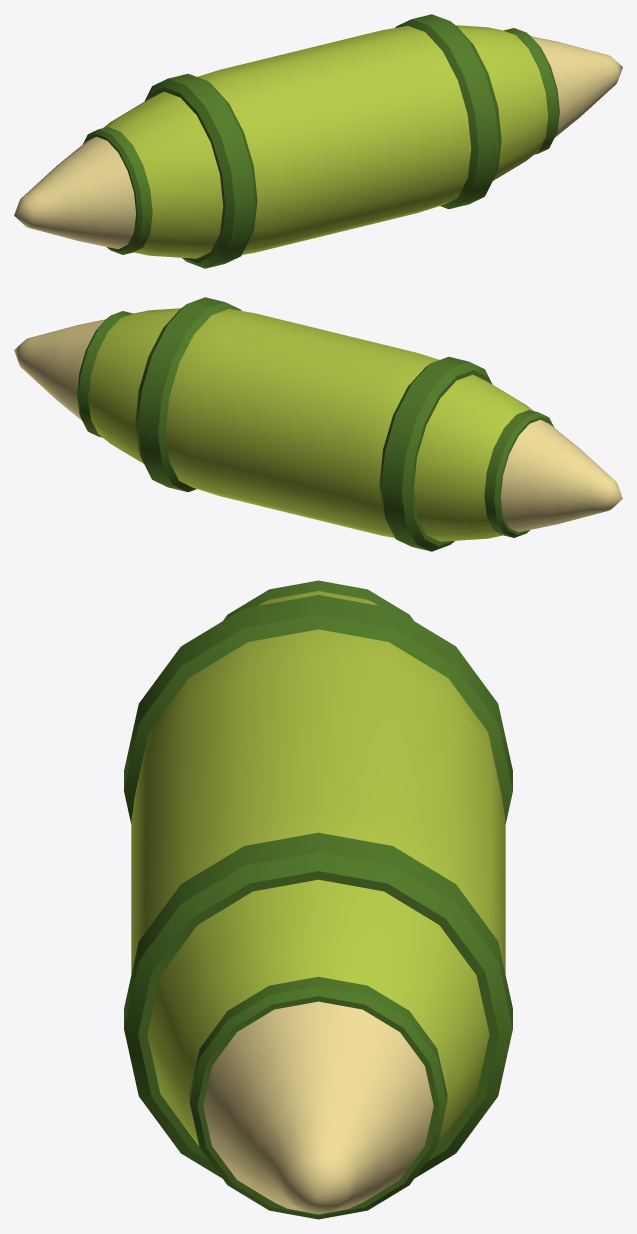
Rendered from gulli-bamboo.glb.
3 views of the same model, one above another, from view 1: azimuth 30°, elevation 25°; view 2: azimuth 150°, elevation 25°; view 3: azimuth 270°, elevation 25° (orthographic). The views are drawn at different scales.
Parts seen in each view (by area): view 1: GulliBamboo_Cane, GulliBamboo_Nodes, GulliBamboo_Ends; view 2: GulliBamboo_Cane, GulliBamboo_Nodes, GulliBamboo_Ends; view 3: GulliBamboo_Cane, GulliBamboo_Nodes, GulliBamboo_Ends.
Boxes of the visible parts, x1,y1,x2,y2 form: GulliBamboo_Cane: [103, 25, 548, 258]; GulliBamboo_Nodes: [83, 14, 559, 268]; GulliBamboo_Ends: [14, 36, 622, 249]; GulliBamboo_Cane: [88, 308, 533, 541]; GulliBamboo_Nodes: [77, 297, 553, 551]; GulliBamboo_Ends: [14, 319, 622, 532]; GulliBamboo_Cane: [131, 591, 505, 1145]; GulliBamboo_Nodes: [124, 580, 512, 1219]; GulliBamboo_Ends: [203, 1001, 433, 1214].
Size of the model in its own units: 1.5 by 0.415 by 0.415.
